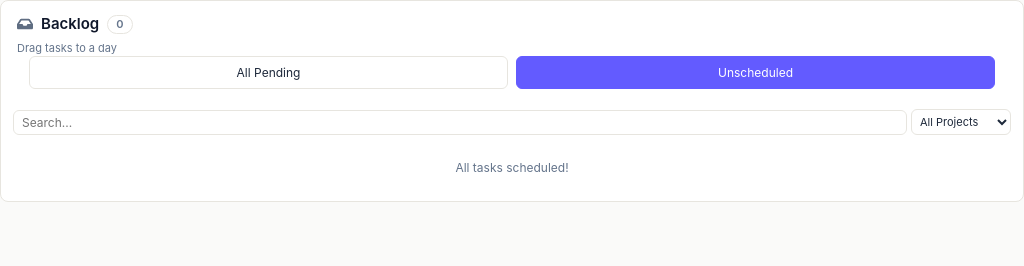
Test: BacklogSidebar › recurring task filtering › shows recurring sources in All Pending mode regardless of next occurrence
This screenshot has width=1024, height=266.
What coordinates should you click on to do the following:
click the button "All Pending"
I would click on:
 (268, 72)
Its box is [29,56,508,89].
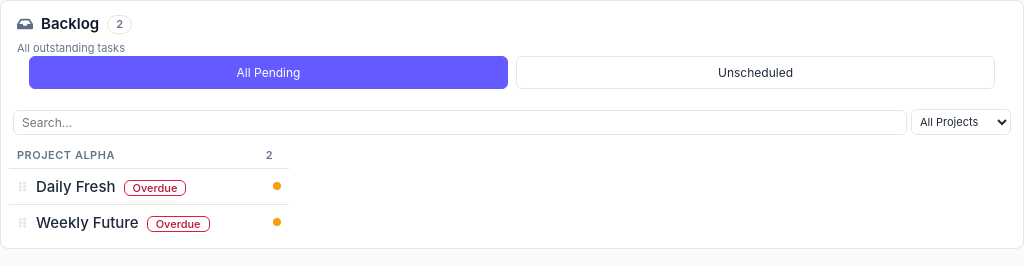
Check: the button "Daily Fresh" is shown, box [36,176,265,196]
Check: the button "Weekly Future" is shown, box [36,212,265,232]
